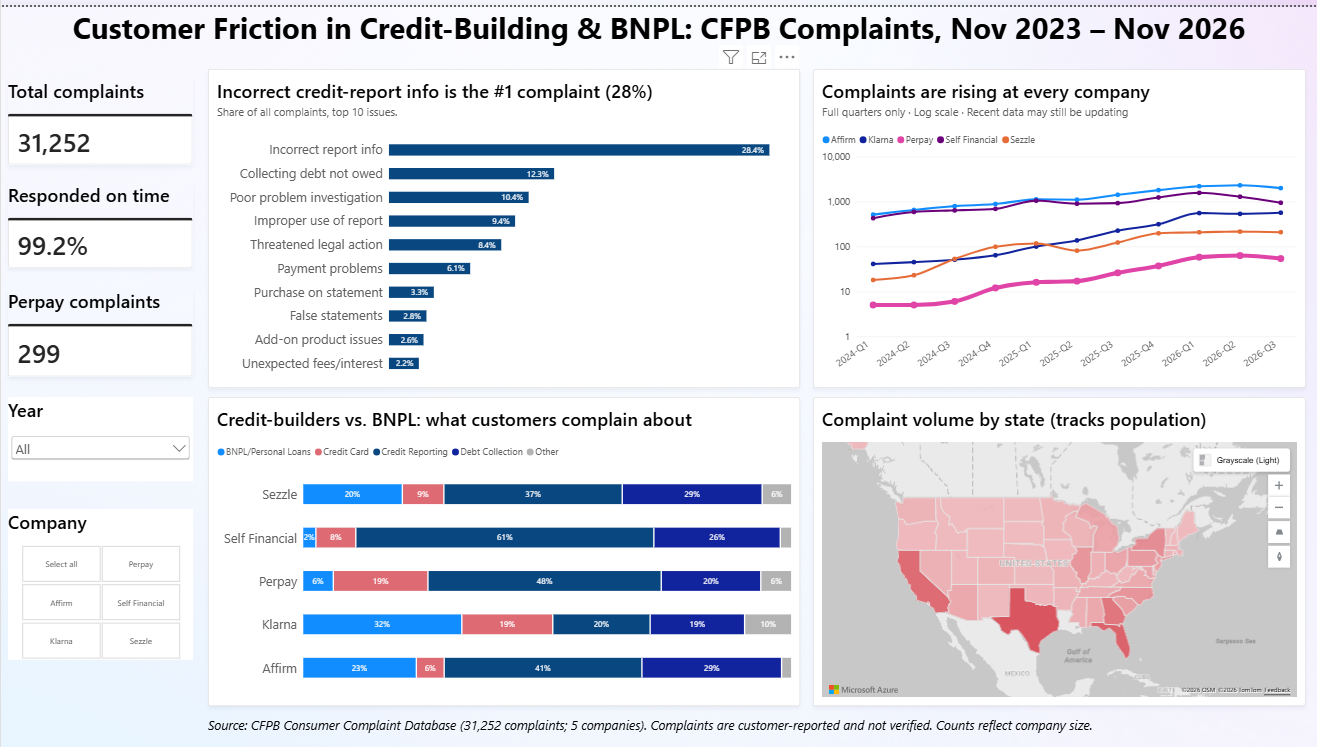

This screenshot's page, from the dashboard's own definition file:
{"tool":"powerbi","page":{"name":"Page 1","canvas":[1920,1080],"ordinal":0},"visuals":[{"type":"cardVisual","title":"Perpay complaints","fields":{"Data":["Clean_Data.Total Complaints"]},"box":[10.2,410,269.9,129.8],"z":0},{"type":"cardVisual","title":"Total complaints","fields":{"Data":["Clean_Data.Total Complaints"]},"box":[10.2,103.6,269.9,126.9],"z":1},{"type":"cardVisual","title":"Responded on time","fields":{"Data":["Clean_Data.Timely %"]},"box":[10.2,255.3,269.9,125.5],"z":2},{"type":"clusteredBarChart","title":"Incorrect credit-report info is the #1 complaint (28%)","fields":{"Category":["Clean_Data.Issue Short"],"Y":["Clean_Data.% of Complaints"]},"box":[302,90.5,863.7,465.4],"z":3},{"type":"lineChart","title":"Complaints are rising at every company ","fields":{"Category":["Clean_Data.Year-Quarter"],"Series":["Clean_Data.Company"],"Y":["Clean_Data.Total Complaints"]},"box":[1184.7,90.5,719.3,465.4],"z":4},{"type":"hundredPercentStackedBarChart","title":"Credit-builders vs. BNPL: what customers complain about","fields":{"Category":["Clean_Data.Company"],"Series":["Clean_Data.Product Group"],"Y":["Clean_Data.Total Complaints"]},"box":[302,569,863.7,450.8],"z":5},{"type":"azureMap","title":"Complaint volume by state (tracks population)","fields":{"Category":["Clean_Data.State US"]},"box":[1184.7,569,719.3,450.8],"z":6},{"type":"slicer","title":"Company","fields":{"Values":["Clean_Data.Company"]},"box":[10.2,732.4,269.9,220.3],"z":7},{"type":"slicer","title":"Year","fields":{"Values":["Clean_Data.Year"]},"box":[10.2,569,269.9,122.6],"z":8},{"type":"textbox","box":[0,0,1920,90.5],"z":9},{"type":"textbox","box":[302,1034.4,1498.4,35],"z":10}]}

Visuals, with their boxes in screenshot pixels (x1, y1, x2, y2), scaled from the page's 1920x1080 canvas onto the 1317x747 screenshot:
"Perpay complaints" cardVisual: bbox=(7, 284, 192, 373)
"Total complaints" cardVisual: bbox=(7, 72, 192, 159)
"Responded on time" cardVisual: bbox=(7, 177, 192, 263)
"Incorrect credit-report info is the #1 complaint (28%)" clusteredBarChart: bbox=(207, 63, 800, 384)
"Complaints are rising at every company " lineChart: bbox=(813, 63, 1306, 384)
"Credit-builders vs. BNPL: what customers complain about" hundredPercentStackedBarChart: bbox=(207, 394, 800, 705)
"Complaint volume by state (tracks population)" azureMap: bbox=(813, 394, 1306, 705)
"Company" slicer: bbox=(7, 507, 192, 659)
"Year" slicer: bbox=(7, 394, 192, 478)
textbox: bbox=(0, 0, 1316, 63)
textbox: bbox=(207, 715, 1235, 740)
